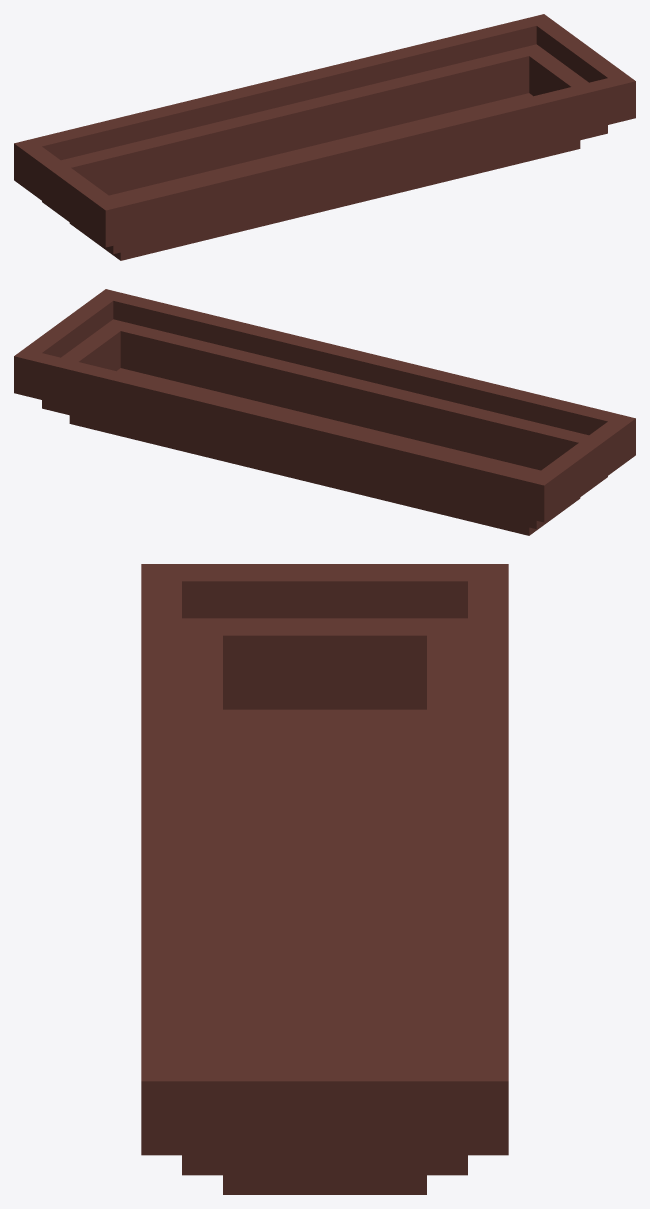
File: empty_trough.obj
3 renders of one model, top to bottom at view 1: azimuth 30°, elevation 25°; view 2: azimuth 150°, elevation 25°; view 3: azimuth 270°, elevation 25°, orthographic. The views are drawn at different scales.
Size of the model in its own units: 3 by 0.4 by 0.9.
1 material, 1 textured.
